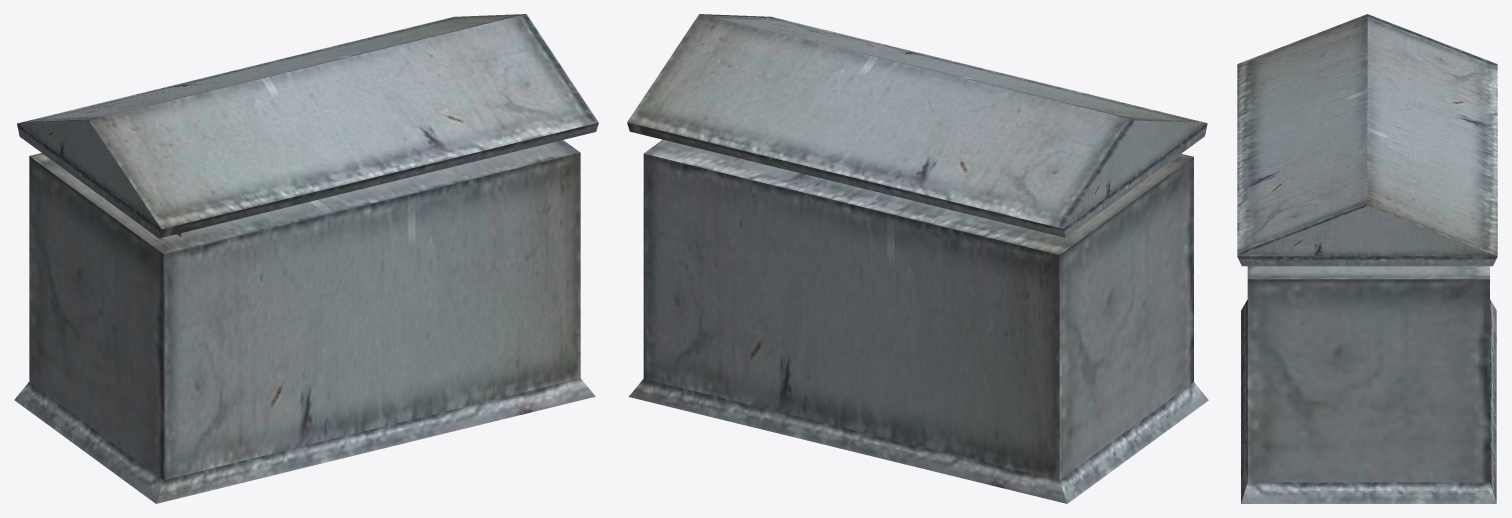
The model's file is Airvent.fbx.
3 views of the same model, side by side, from view 1: azimuth 30°, elevation 25°; view 2: azimuth 150°, elevation 25°; view 3: azimuth 270°, elevation 25° (orthographic). The views are drawn at different scales.
Visible parts, largest first — view 1: Airvent; view 2: Airvent; view 3: Airvent.
Boxes of the visible parts, bbox=[...] form: Airvent: bbox=[14, 14, 598, 503]; Airvent: bbox=[627, 14, 1208, 503]; Airvent: bbox=[1237, 14, 1497, 503].
Bounding box in the file's own units: 157 × 113 × 89.29.
